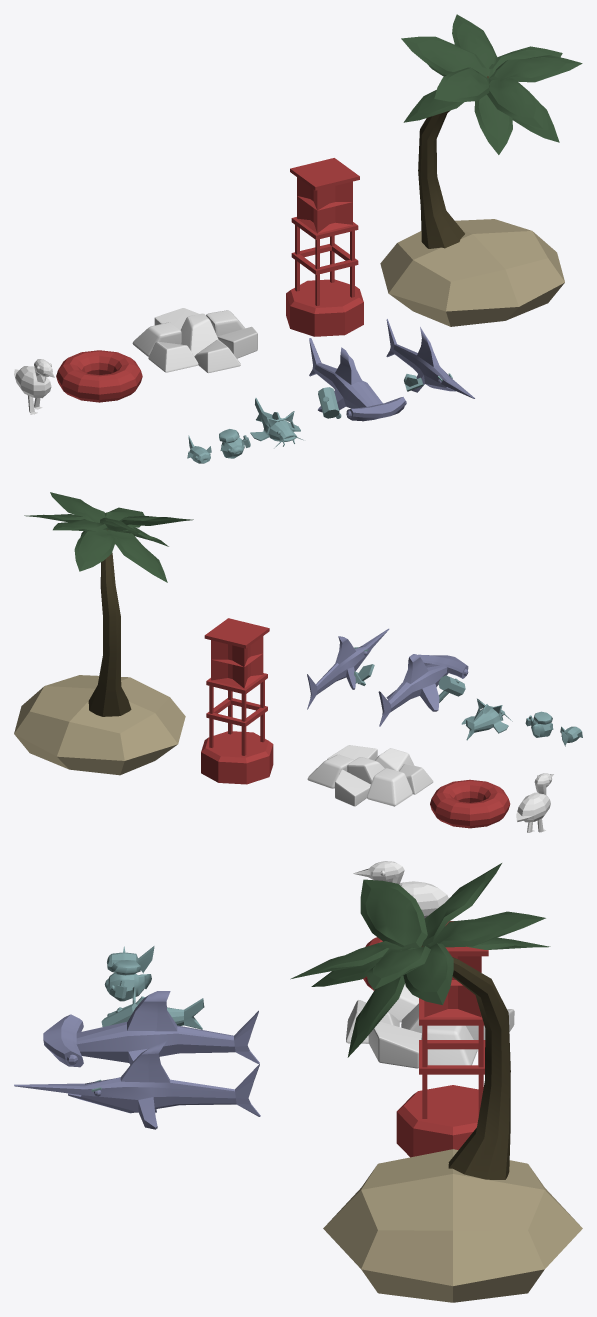
Rendered from AllFInalModels.fbx.
3 views of the same model, one above another, from view 1: azimuth 30°, elevation 25°; view 2: azimuth 150°, elevation 25°; view 3: azimuth 270°, elevation 25° (orthographic). The views are drawn at different scales.
Visible parts, largest first — view 1: PalmtreeIsland, Boie, Rocks, Floaty, HammerheadShark1, SwordFish, Seagull, Catfish1; view 2: PalmtreeIsland, Boie, Rocks, Floaty, HammerheadShark1, SwordFish, Seagull, Catfish1, Hammer; view 3: PalmtreeIsland, Boie, HammerheadShark1, SwordFish, Rocks, Seagull, Pufferfish_Bloated1, Catfish1.
Part boxes in pixels (x1,y1,x2,y2): PalmtreeIsland: (380, 14, 582, 326); Boie: (286, 158, 363, 336); Rocks: (132, 308, 257, 373); Floaty: (56, 350, 142, 402); HammerheadShark1: (309, 338, 406, 421); SwordFish: (386, 319, 474, 398); Seagull: (14, 359, 54, 414); Catfish1: (250, 398, 303, 448); PalmtreeIsland: (14, 492, 193, 775); Boie: (201, 618, 273, 784); Rocks: (307, 745, 433, 806); Floaty: (430, 779, 510, 828); HammerheadShark1: (378, 654, 468, 726); SwordFish: (307, 628, 389, 709); Seagull: (516, 773, 553, 832); Catfish1: (461, 704, 512, 740); Hammer: (438, 675, 465, 702); PalmtreeIsland: (290, 863, 582, 1302); Boie: (396, 921, 488, 1157); HammerheadShark1: (43, 991, 259, 1067); SwordFish: (14, 1040, 260, 1129); Rocks: (346, 983, 514, 1068); Seagull: (353, 861, 449, 918); Pufferfish_Bloated1: (104, 973, 151, 1001); Catfish1: (107, 996, 204, 1029).
Bounding box in the file's own units: 15.86 × 7.16 × 10.09.
